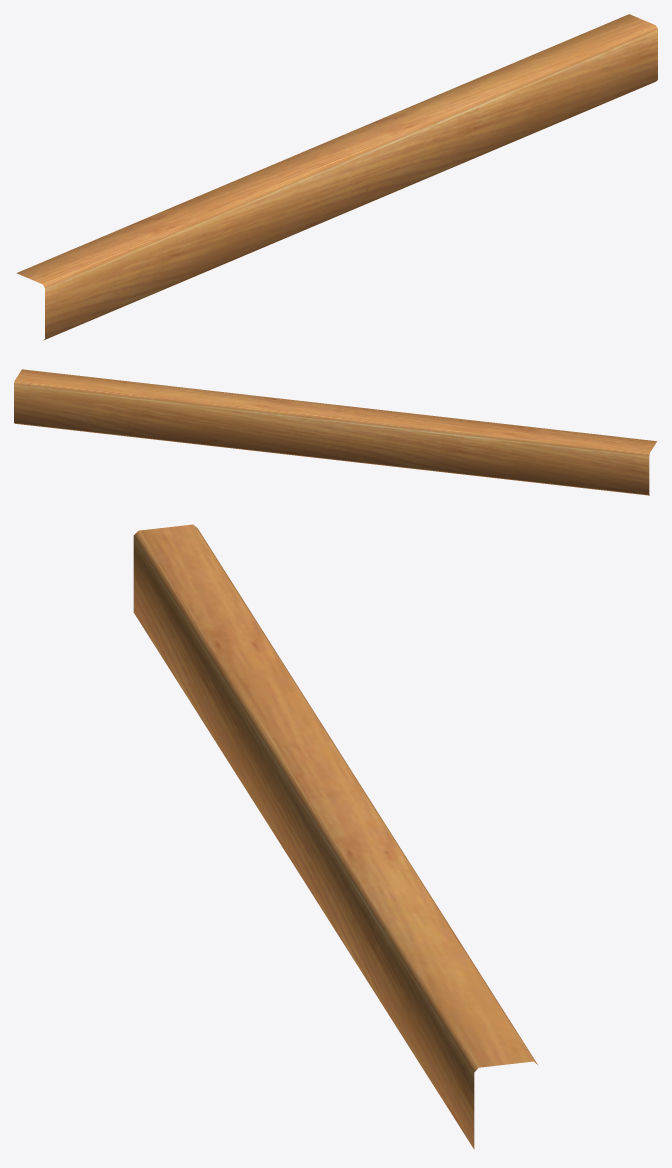
The picture shows the model from 3 angles, top to bottom: view 1: azimuth 30°, elevation 25°; view 2: azimuth 150°, elevation 25°; view 3: azimuth 270°, elevation 25°; orthographic projection. The views are drawn at different scales.
Parts seen in each view (by area): view 1: Joint_0_Object_0; view 2: Joint_0_Object_0; view 3: Joint_0_Object_0.
Part boxes in pixels (box(x1,y1,x2,y2)): Joint_0_Object_0: box(16, 14, 657, 340); Joint_0_Object_0: box(14, 369, 656, 495); Joint_0_Object_0: box(133, 524, 537, 1149).
Size of the model in its own units: 1361 by 100 by 427.
1 material, 1 textured.
